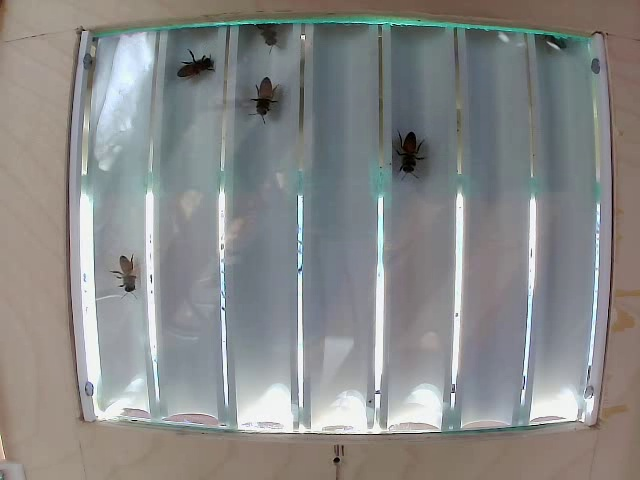bee: (175, 45, 225, 89), (109, 242, 144, 293), (252, 77, 287, 122), (250, 12, 284, 50), (402, 136, 419, 187)
